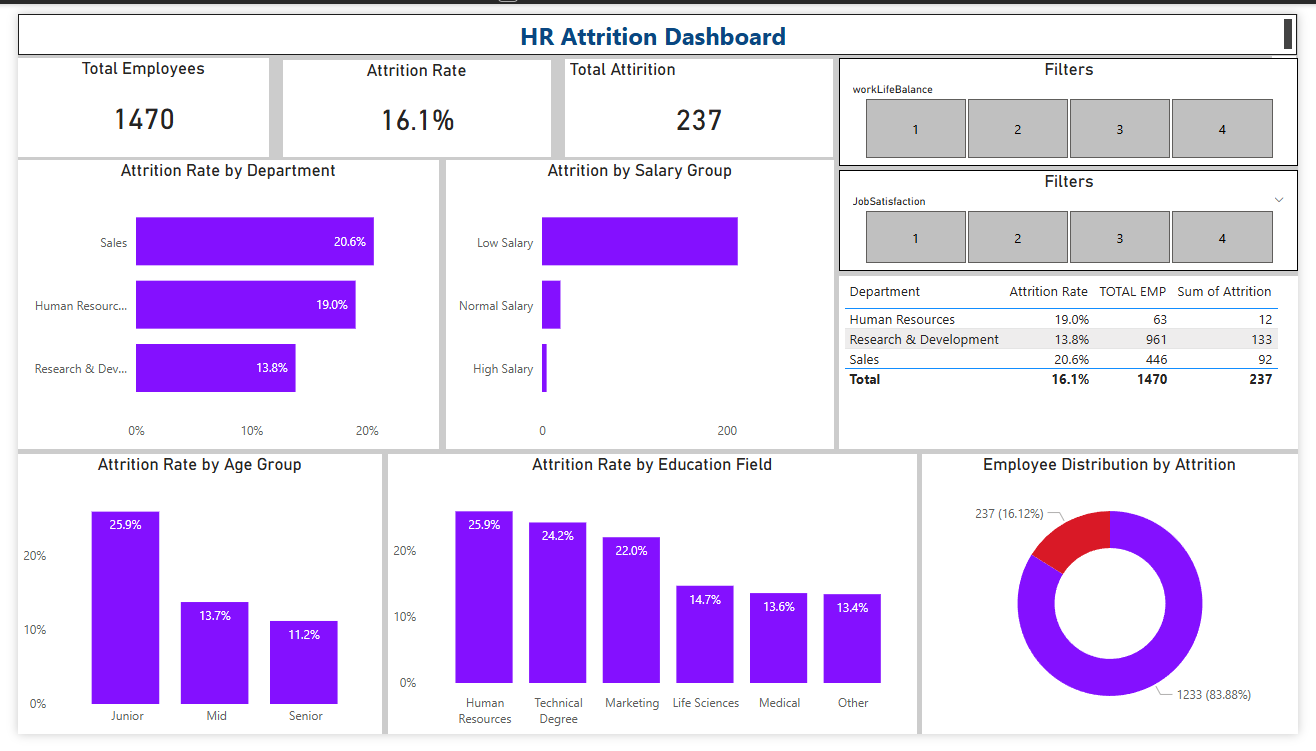

What the dashboard file says about the page in this screenshot:
{"tool":"powerbi","page":{"name":"Page 1","canvas":[1280,720],"ordinal":0},"visuals":[{"type":"card","title":"Attrition Rate","fields":{"Values":["Attrition Data.Attrition Rate"]},"box":[265,46,268,97],"z":0},{"type":"barChart","title":"Attrition Rate by Department","fields":{"Category":["Attrition Data.Department"],"Y":["Attrition Data.Attrition Rate"]},"box":[0,146,421,289],"z":1000},{"type":"card","title":"Total Employees","fields":{"Values":["Attrition Data.TOTAL EMP"]},"box":[0,44.3,250.5,99],"z":2000},{"type":"columnChart","title":"Attrition Rate by Education Field","fields":{"Category":["Attrition Data.EducationField"],"Y":["Attrition Data.Attrition Rate"]},"box":[370,440,528.6,280],"z":3000},{"type":"card","title":"Total Attirition","fields":{"Values":["Sum(Attrition Data.Attrition)"]},"box":[547.4,45.4,268,97.9],"z":4000},{"type":"columnChart","title":"Attrition Rate by Age Group","fields":{"Y":["Attrition Data.Attrition Rate"],"Category":["Attrition Data.age group"]},"box":[0,439.7,364.4,280.1],"z":5000},{"type":"donutChart","title":"Employee Distribution by Attrition","fields":{"Y":["Attrition Data.TOTAL EMP"],"Category":["Attrition Data.Attrition"]},"box":[904,440,376,280],"z":6000},{"type":"barChart","title":"Attrition by Salary Group","fields":{"Y":["Sum(Attrition Data.Attrition)"],"Category":["Attrition Data.monthly income group"]},"box":[428,146,388,289],"z":7000},{"type":"textbox","box":[0,0,1279,41],"z":8000},{"type":"tableEx","fields":{"Values":["Attrition Data.Department","Attrition Data.Attrition Rate","Attrition Data.TOTAL EMP","Sum(Attrition Data.Attrition)"]},"box":[820.5,262.3,459.6,172.6],"z":9000},{"type":"slicer","title":"Filters","fields":{"Values":["Attrition Data.WorkLifeBalance"]},"box":[821,44,459,108],"z":10000},{"type":"slicer","title":"Filters","fields":{"Values":["Attrition Data.JobSatisfaction"]},"box":[821.1,156.2,458.9,100.7],"z":11000}]}

Visuals, with their boxes in screenshot pixels (x1, y1, x2, y2), scaled from the page's 1280x720 canvas onto the 1316x751 screenshot:
"Attrition Rate" card: BBox(272, 48, 548, 149)
"Attrition Rate by Department" barChart: BBox(0, 152, 433, 454)
"Total Employees" card: BBox(0, 46, 258, 149)
"Attrition Rate by Education Field" columnChart: BBox(380, 459, 924, 750)
"Total Attirition" card: BBox(563, 47, 838, 149)
"Attrition Rate by Age Group" columnChart: BBox(0, 459, 375, 750)
"Employee Distribution by Attrition" donutChart: BBox(929, 459, 1315, 750)
"Attrition by Salary Group" barChart: BBox(440, 152, 839, 454)
textbox: BBox(0, 0, 1315, 43)
tableEx - Attrition Data.Department x Attrition Data.Attrition Rate: BBox(844, 274, 1315, 454)
"Filters" slicer: BBox(844, 46, 1315, 159)
"Filters" slicer: BBox(844, 163, 1315, 268)
